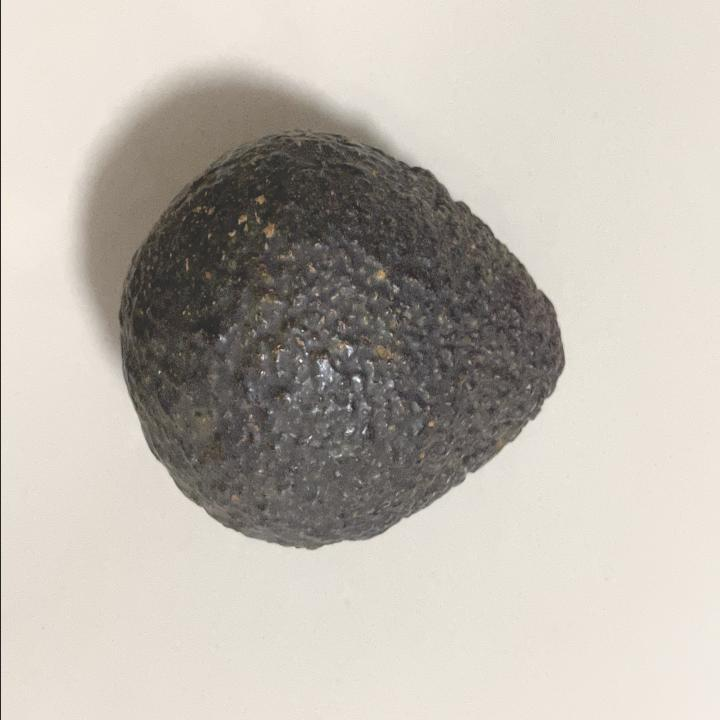Level1: (104, 109, 580, 565)
